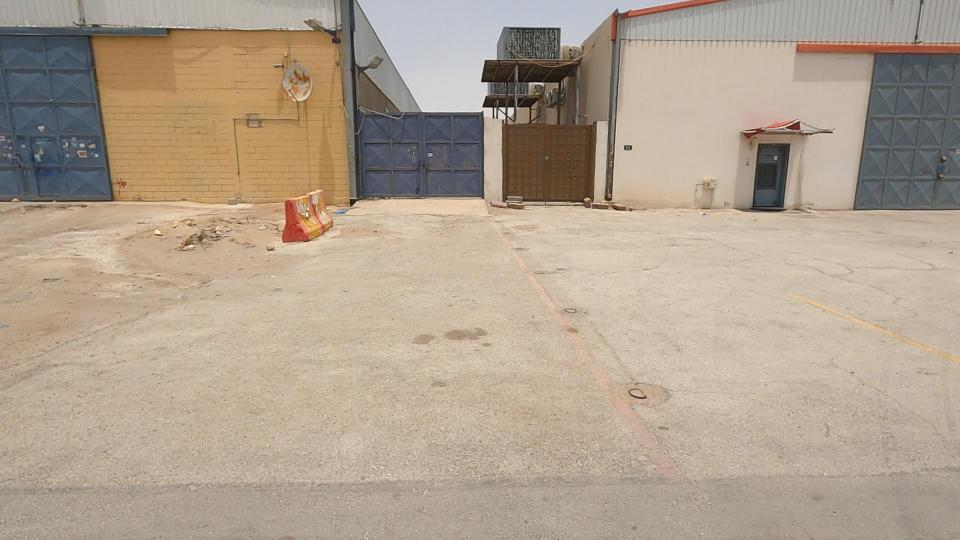GARBAGE: (134, 199, 248, 271), (213, 193, 295, 253), (305, 181, 370, 239)
